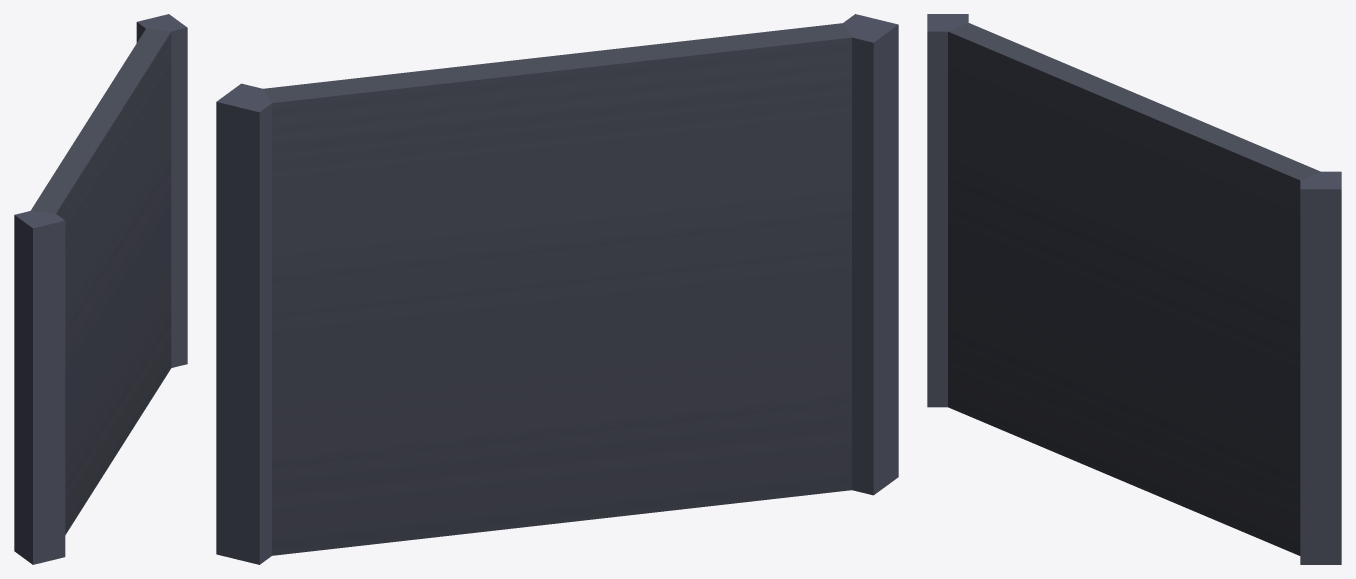
Rendered from wall-diagonal.glb.
3 renders of one model, left to right at view 1: azimuth 30°, elevation 25°; view 2: azimuth 150°, elevation 25°; view 3: azimuth 270°, elevation 25°, orthographic. The views are drawn at different scales.
Visible parts, largest first — view 1: wall-diagonal; view 2: wall-diagonal; view 3: wall-diagonal.
Boxes of the visible parts, x1,y1,x2,y2 form: wall-diagonal: [14, 14, 187, 564]; wall-diagonal: [216, 14, 898, 564]; wall-diagonal: [927, 14, 1341, 564].
Bounding box in the file's own units: 1 × 1 × 1.
1 material, 1 textured.
